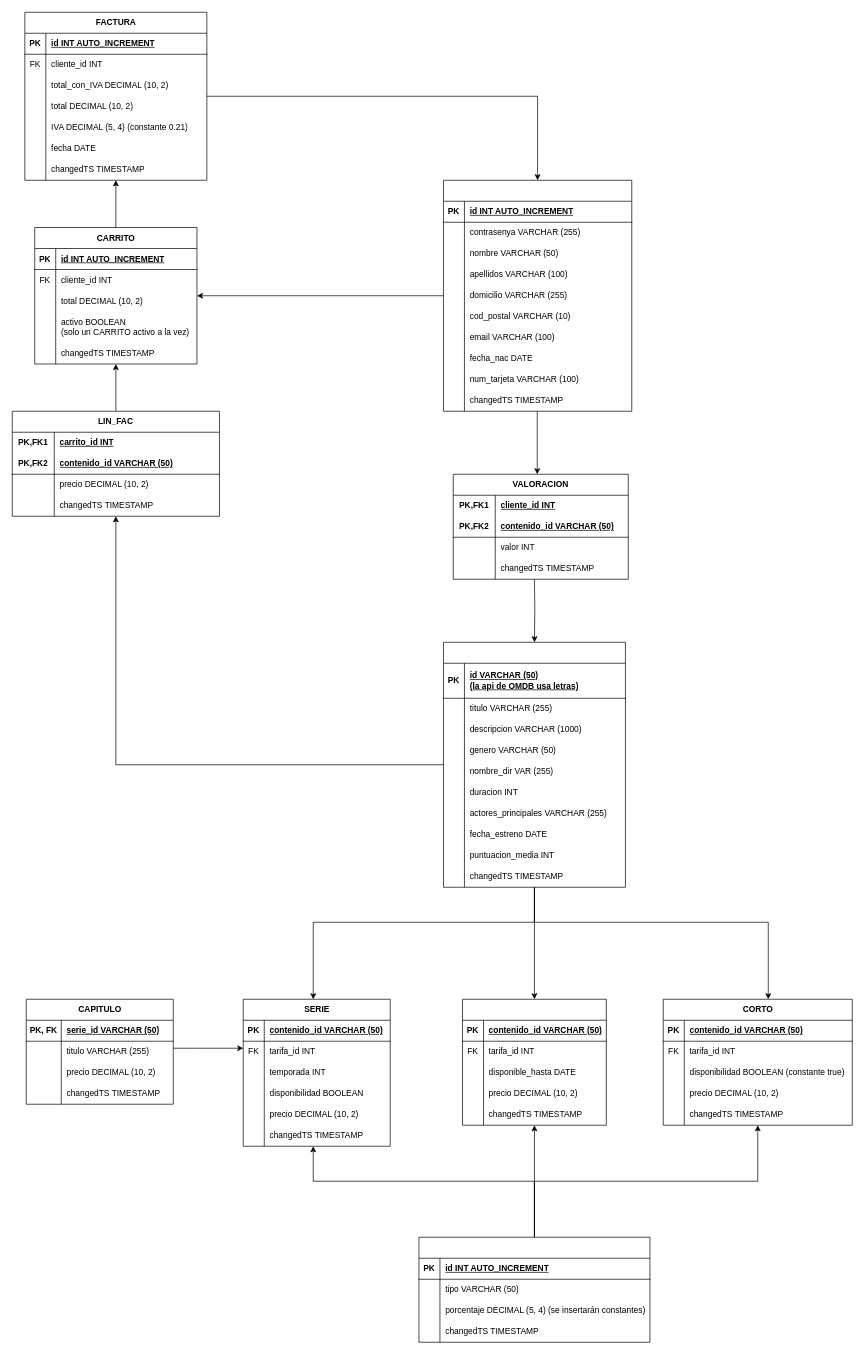
Image size: 865x1355. Some labels were removed from this diagram. Each missing label, with the box of its shape:
CLIENTE: (443, 180, 632, 411)
CONTENIDO: (443, 642, 625, 887)
PELICULA: (462, 999, 606, 1125)
TARIFA: (418, 1237, 650, 1342)
